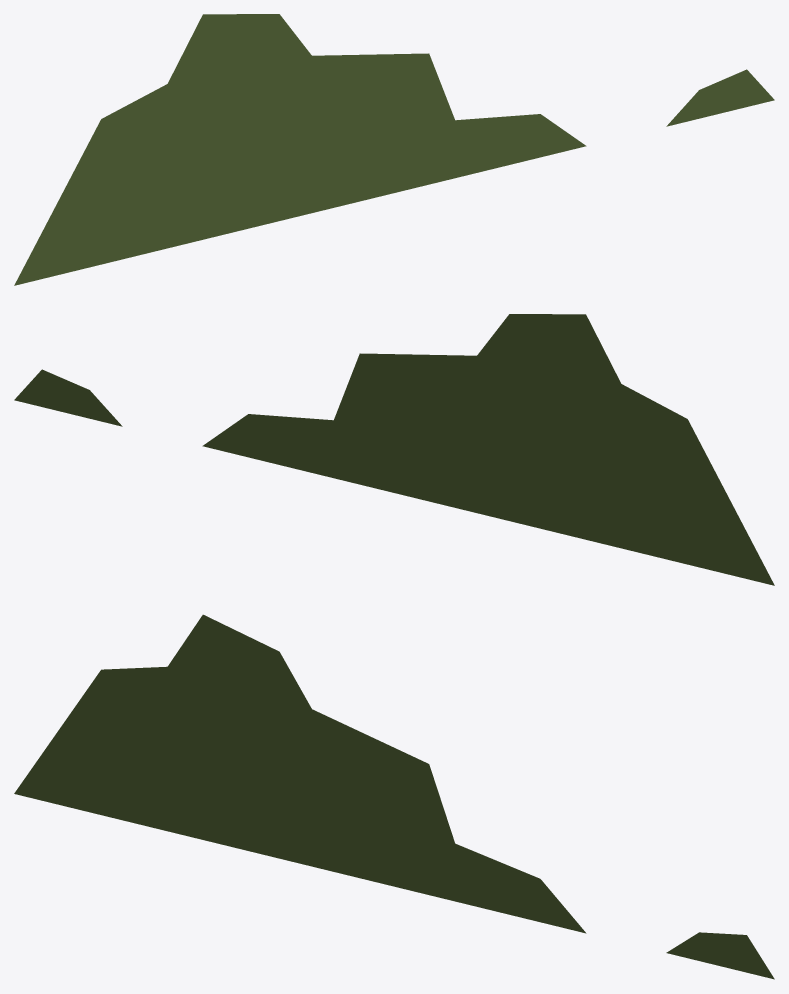
Rendered from SM_Env_Background_Island_05.glb.
3 views of the same model, one above another, from view 1: azimuth 30°, elevation 25°; view 2: azimuth 150°, elevation 25°; view 3: azimuth 330°, elevation 25° (orthographic).
Parts seen in each view (by area): view 1: SM_Env_Background_Island_05_part00; view 2: SM_Env_Background_Island_05_part00; view 3: SM_Env_Background_Island_05_part00.
Boxes of the visible parts, <box> form: SM_Env_Background_Island_05_part00: <box>14,14,774,285</box>; SM_Env_Background_Island_05_part00: <box>14,314,774,585</box>; SM_Env_Background_Island_05_part00: <box>14,614,774,979</box>.
Bounding box in the file's own units: 36.07 × 10.22 × 0.
Materials: 1 (1 with a texture image).
